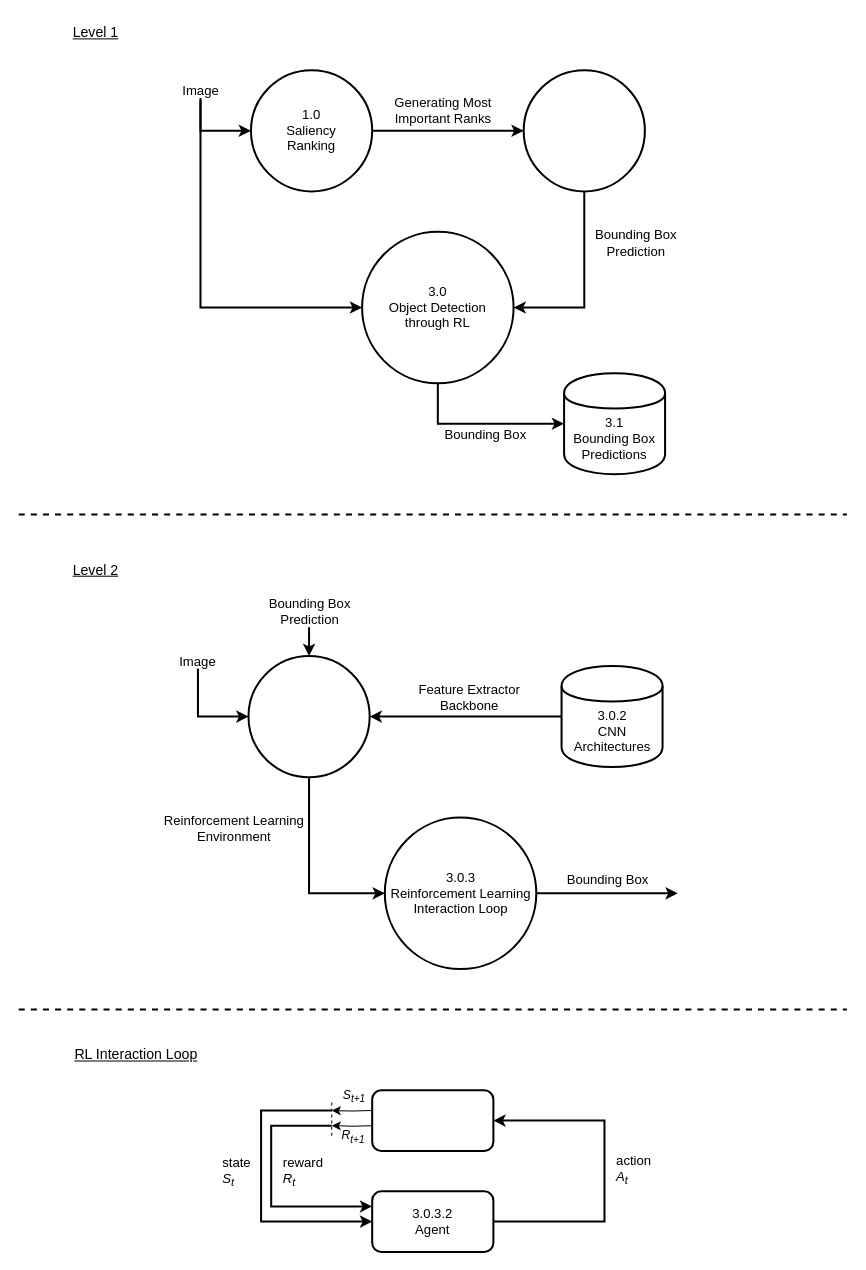
Some shapes in this 866 by 1270 pixel diagram are drawn without their labels. Here are the shapes that lost their labels. From the top down, the centre of each, then its label:
[583,130]: 2.0 Bounding Box Generation
[308,716]: 3.0.1 Creating Environment
[432,1120]: 3.0.3.1 Environment
